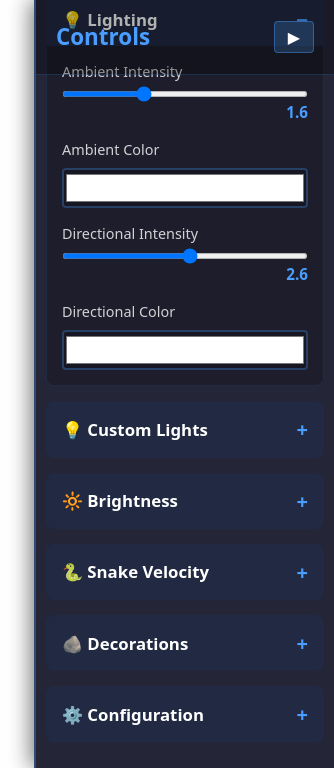
ControlPanel › Save Configuration › should render Save Configuration button
(page scrolled)
Note: Expand Configuration section
Click the text "⚙️ Configuration" at (133, 714), box [62,702,204,727]
(page scrolled)
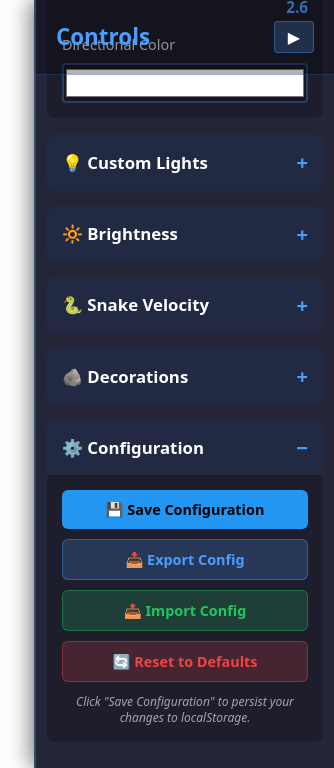
Now the button "💾 Save Configuration" is shown, box [62,490,308,528]
